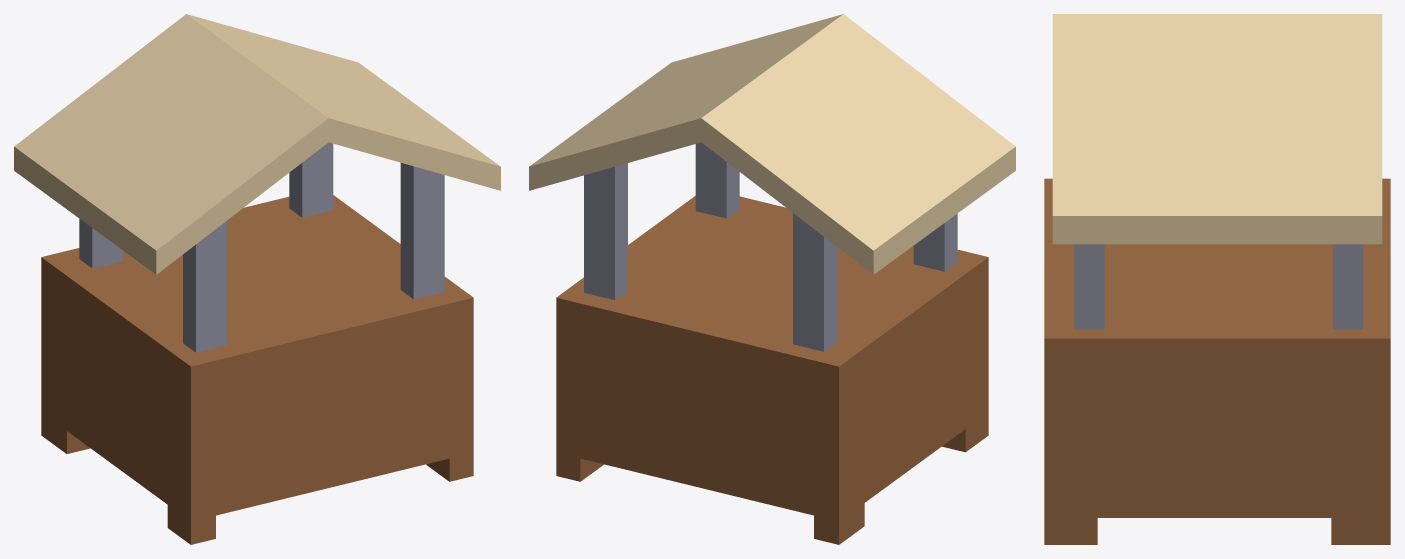
Rendered from Barracas2.fbx.
3 renders of one model, left to right at view 1: azimuth 30°, elevation 25°; view 2: azimuth 150°, elevation 25°; view 3: azimuth 270°, elevation 25°, orthographic. The views are drawn at different scales.
Parts seen in each view (by area): view 1: Cube, Cube.001, Cube.003, Cube.005, Cube.004, Cube.002; view 2: Cube, Cube.001, Cube.004, Cube.002, Cube.003, Cube.005; view 3: Cube, Cube.001, Cube.003, Cube.004.
Boxes of the visible parts, x1,y1,x2,y2 form: Cube: (41,195,473,544); Cube.001: (14,14,500,274); Cube.003: (400,163,444,299); Cube.005: (183,221,226,352); Cube.004: (289,142,333,217); Cube.002: (79,219,123,268); Cube: (556,196,988,544); Cube.001: (529,14,1015,274); Cube.004: (584,163,627,300); Cube.002: (793,213,836,351); Cube.003: (695,142,739,218); Cube.005: (913,213,957,271); Cube: (1044,178,1390,544); Cube.001: (1052,14,1382,244); Cube.003: (1074,244,1104,329); Cube.004: (1333,244,1362,329).
Size of the model in its own units: 782 by 846 by 589.
